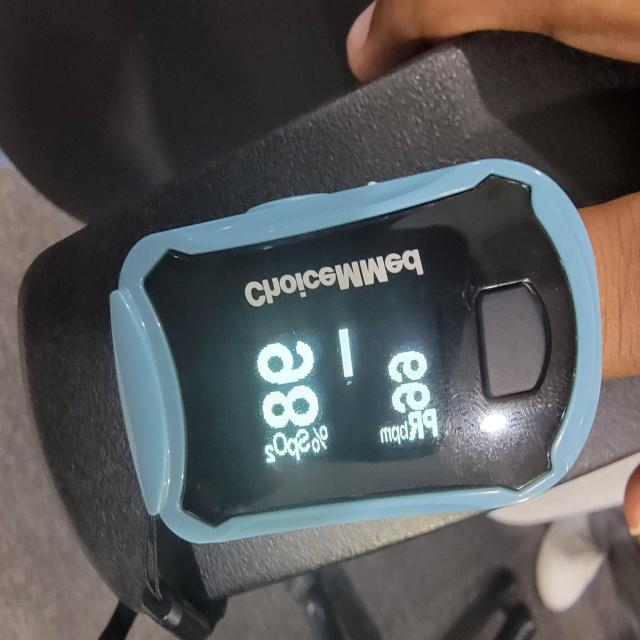spo2: (37, 37, 640, 639)
